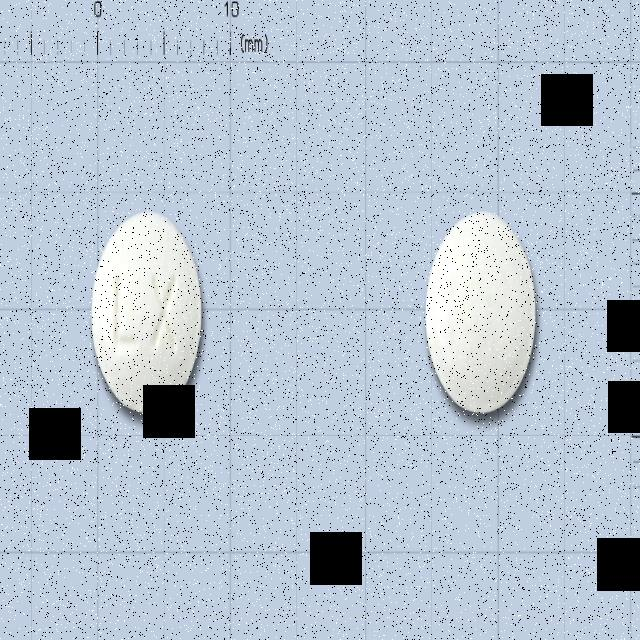Levoxacin -250mg: (91, 211, 203, 415)
